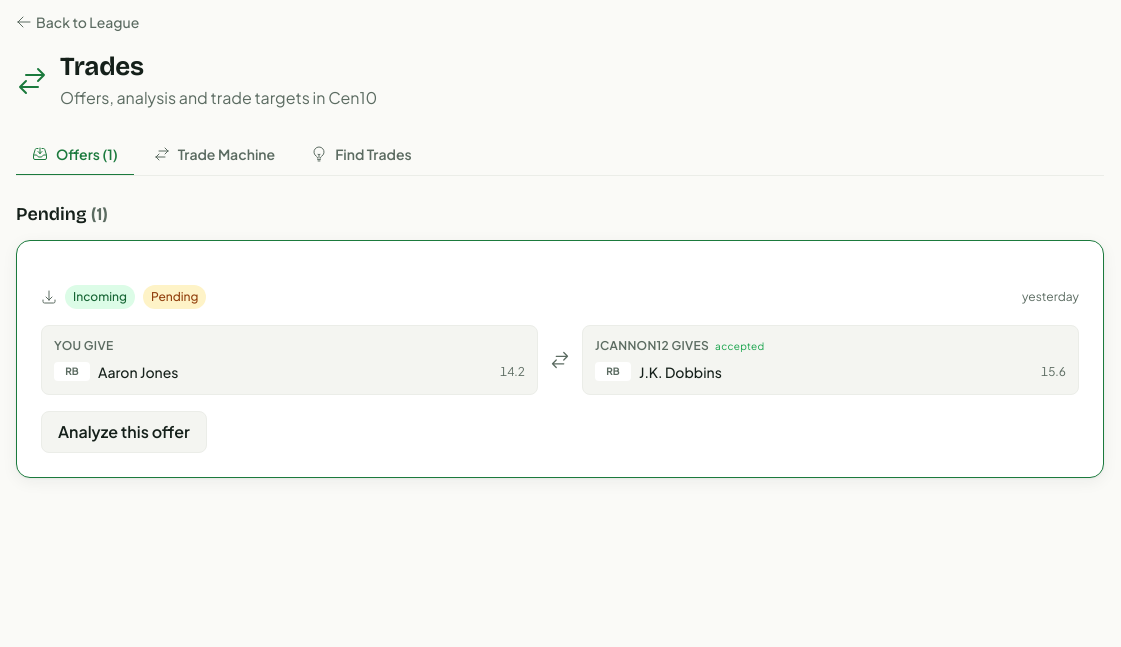
Scenario: Trade finder › lists mutual upgrades with both deltas
The image size is (1121, 647).
Step 1. Click the tab "Find Trades" → (361, 155), box [295, 134, 428, 176]
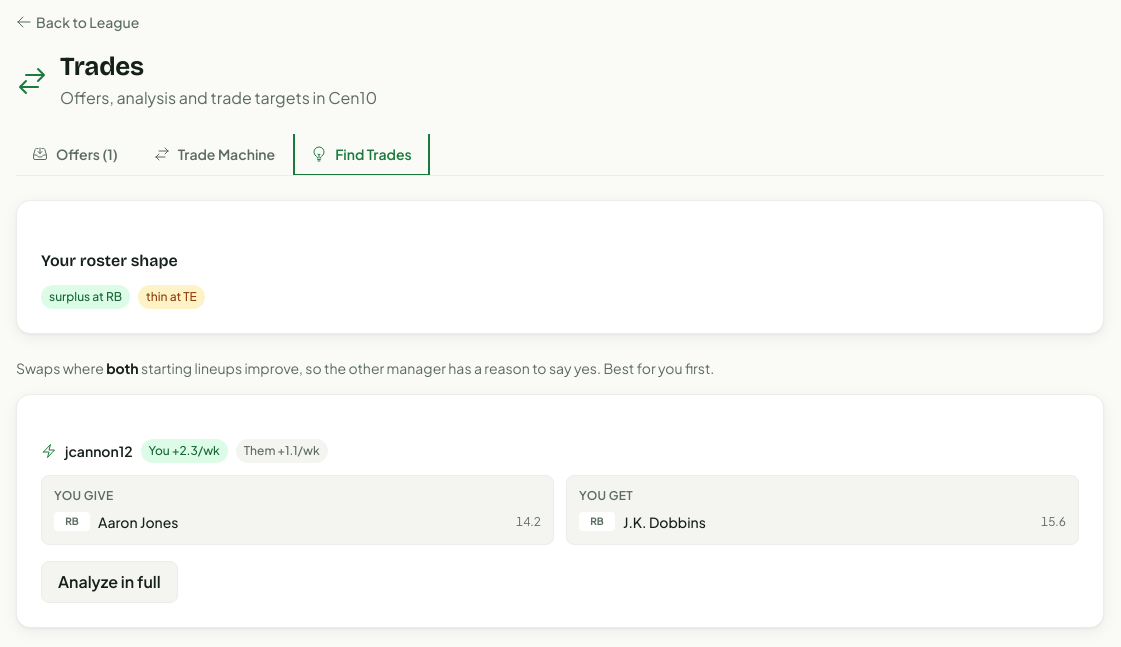
Expected: the text "You +2.3/wk" is shown, [141, 439, 228, 463]
Expected: the text "Them +1.1/wk" is shown, [236, 439, 328, 463]
Expected: the text "surplus at RB" is shown, [41, 285, 130, 309]
